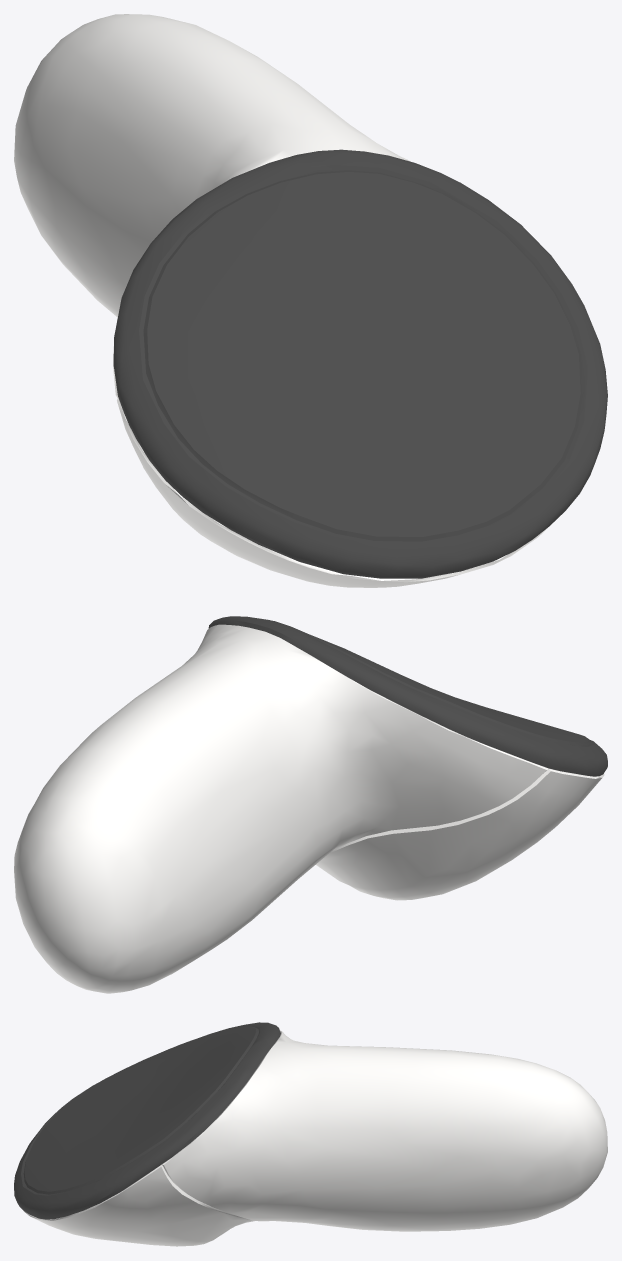
Rendered from MR_Controller_L.gltf.
3 views of the same model, one above another, from view 1: azimuth 30°, elevation 25°; view 2: azimuth 150°, elevation 25°; view 3: azimuth 270°, elevation 25° (orthographic). The views are drawn at different scales.
Parts seen in each view (by area): view 1: genericController_L_geo; view 2: genericController_L_geo; view 3: genericController_L_geo.
Part boxes in pixels (box(x1,y1,x2,y2)): genericController_L_geo: box(14, 14, 607, 587); genericController_L_geo: box(14, 616, 607, 993); genericController_L_geo: box(14, 1022, 607, 1246).
Bounding box in the file's own units: 0.0654 × 0.0488 × 0.1232.
1 material, 1 textured.
